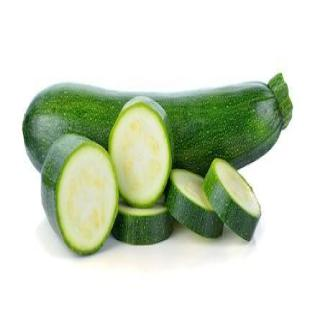Zucchini: (144, 75, 291, 175), (42, 135, 118, 254), (109, 96, 172, 207), (204, 159, 260, 239), (166, 170, 223, 237), (113, 203, 172, 244)
